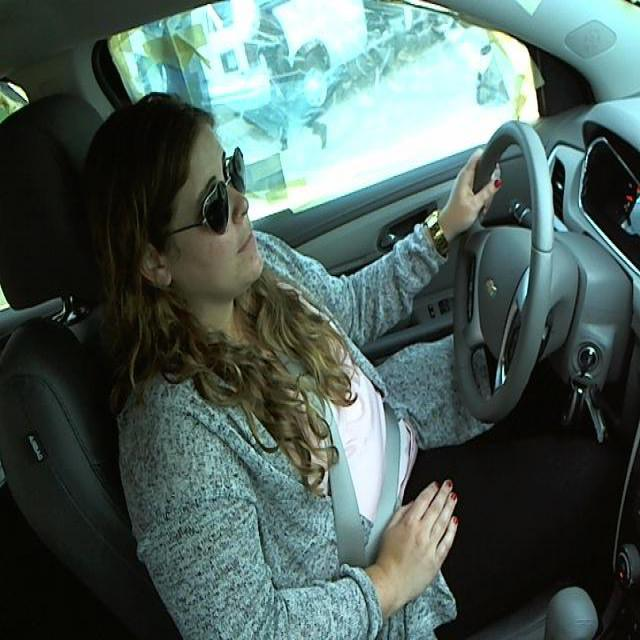seatbelt: (287, 330, 420, 566)
